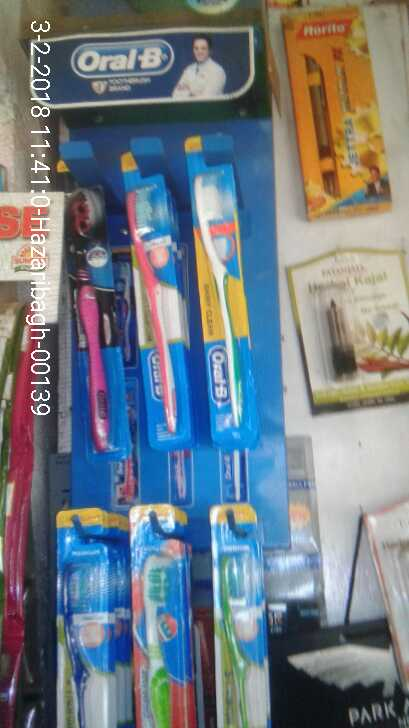oralb: (189, 175, 268, 447), (112, 183, 191, 449), (57, 190, 122, 453), (136, 542, 178, 728), (223, 546, 264, 725), (64, 544, 101, 728)
